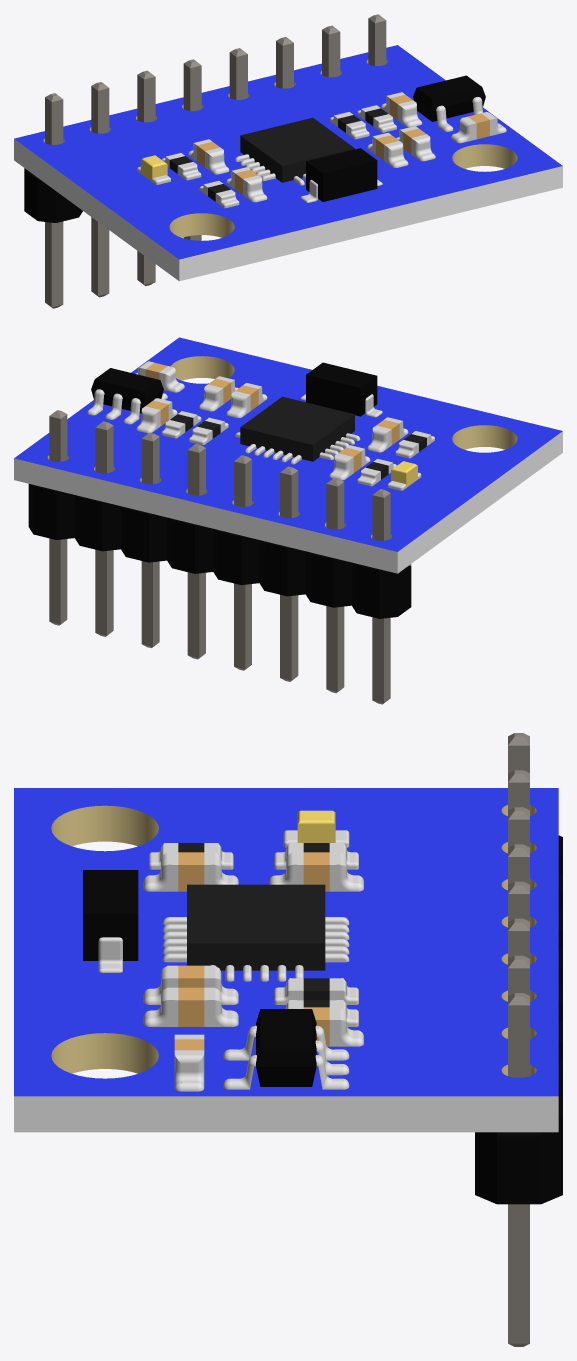
File: mpu6050.gltf
3 views of the same model, one above another, from view 1: azimuth 30°, elevation 25°; view 2: azimuth 150°, elevation 25°; view 3: azimuth 270°, elevation 25° (orthographic). The views are drawn at different scales.
Visible parts, largest first — view 1: NAUO1, NAUO10, NAUO9, NAUO23, NAUO11, NAUO8, NAUO7, NAUO12, NAUO6, NAUO3, NAUO5, NAUO2 (+11 smaller); view 2: NAUO1, NAUO10, NAUO9, NAUO5, NAUO2, NAUO8, NAUO7, NAUO3, NAUO4, NAUO6, NAUO23, NAUO11 (+11 smaller); view 3: NAUO1, NAUO10, NAUO2, NAUO11, NAUO23, NAUO16, NAUO18, NAUO20, NAUO17, NAUO15, NAUO12, NAUO21 (+10 smaller).
Part boxes in pixels (bbox=[...]): NAUO1: bbox=[14, 45, 562, 281]; NAUO10: bbox=[235, 117, 354, 185]; NAUO9: bbox=[24, 93, 82, 308]; NAUO23: bbox=[301, 148, 382, 202]; NAUO11: bbox=[413, 75, 485, 131]; NAUO8: bbox=[91, 82, 109, 297]; NAUO7: bbox=[137, 70, 155, 286]; NAUO12: bbox=[451, 112, 506, 143]; NAUO6: bbox=[183, 59, 201, 240]; NAUO3: bbox=[322, 25, 340, 77]; NAUO5: bbox=[229, 48, 247, 99]; NAUO2: bbox=[368, 14, 386, 65]; NAUO1: bbox=[14, 337, 562, 573]; NAUO10: bbox=[235, 396, 360, 464]; NAUO9: bbox=[351, 489, 411, 704]; NAUO5: bbox=[167, 444, 213, 659]; NAUO2: bbox=[28, 410, 74, 625]; NAUO8: bbox=[305, 477, 351, 693]; NAUO7: bbox=[259, 466, 305, 681]; NAUO3: bbox=[74, 421, 120, 636]; NAUO4: bbox=[121, 432, 166, 647]; NAUO6: bbox=[213, 455, 259, 670]; NAUO23: bbox=[300, 362, 382, 417]; NAUO11: bbox=[87, 368, 167, 424]; NAUO1: bbox=[14, 788, 558, 1132]; NAUO10: bbox=[162, 884, 349, 981]; NAUO2: bbox=[475, 993, 562, 1346]; NAUO11: bbox=[223, 1009, 349, 1089]; NAUO23: bbox=[83, 870, 138, 972]; NAUO16: bbox=[143, 987, 238, 1026]; NAUO18: bbox=[143, 852, 238, 891]; NAUO20: bbox=[269, 852, 363, 891]; NAUO17: bbox=[143, 965, 238, 1004]; NAUO15: bbox=[274, 978, 358, 1004]; NAUO12: bbox=[174, 1034, 204, 1091]; NAUO21: bbox=[283, 810, 349, 847].
Size of the model in its own units: 2.11 by 1.12 by 1.59.
